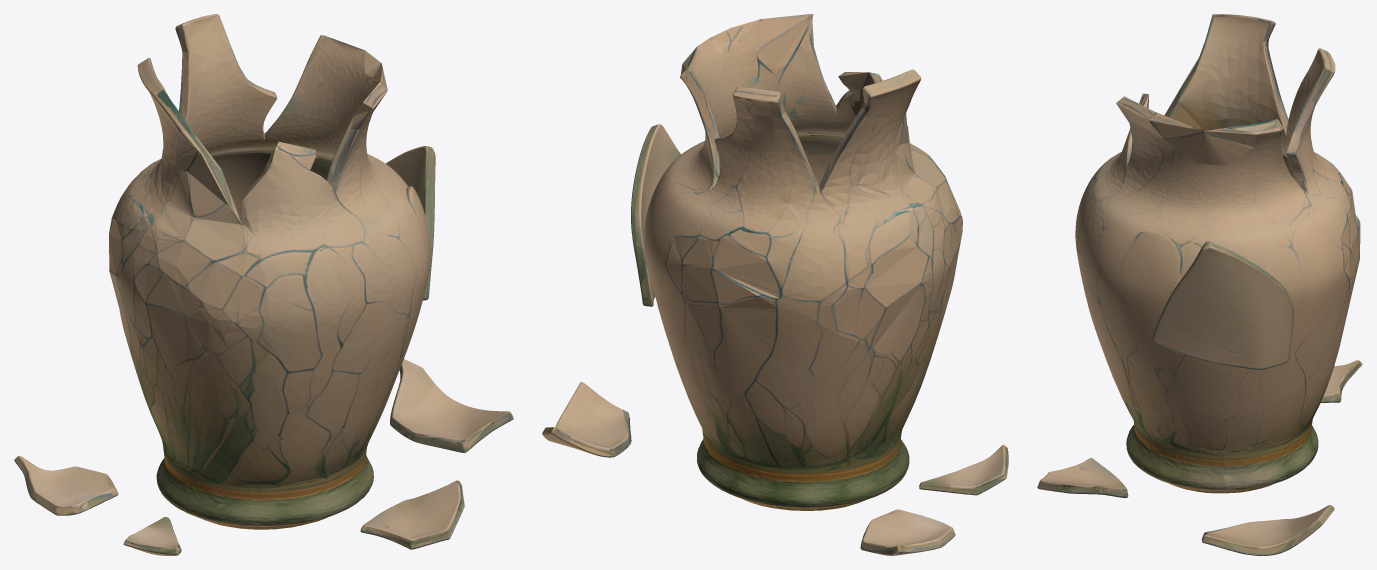
The picture shows the model from 3 angles, left to right: view 1: azimuth 30°, elevation 25°; view 2: azimuth 150°, elevation 25°; view 3: azimuth 270°, elevation 25°; orthographic projection. The views are drawn at different scales.
Parts seen in each view (by area): view 1: texture_pbr_v128; view 2: texture_pbr_v128; view 3: texture_pbr_v128.
Part boxes in pixels (x1,y1,x2,y2): texture_pbr_v128: (14,14,513,555); texture_pbr_v128: (542,14,1008,555); texture_pbr_v128: (1037,14,1362,555).
Bounding box in the file's own units: 0.813 × 0.803 × 0.5905.
Materials: 1 (1 with a texture image).
